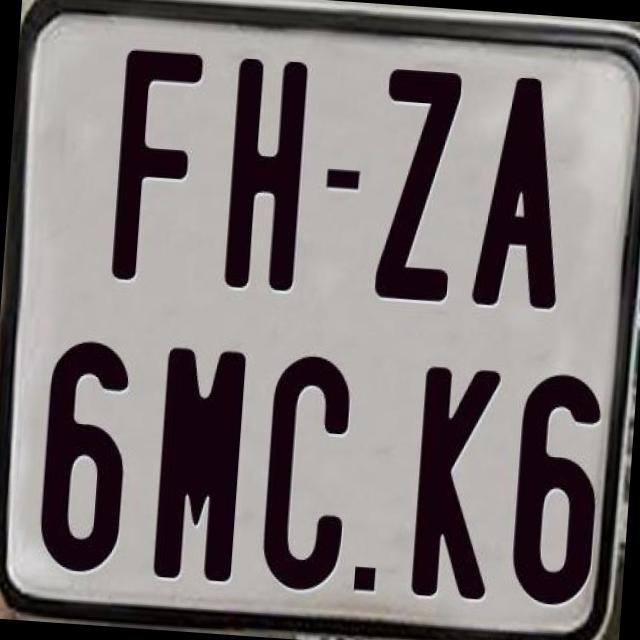6: (505, 368, 600, 608), (34, 333, 130, 568)
A: (466, 73, 574, 314)
C: (260, 349, 362, 591)
F: (106, 46, 204, 286)
H: (219, 52, 310, 292)
K: (408, 364, 503, 603)
M: (150, 346, 246, 585)
Z: (374, 68, 468, 312)
